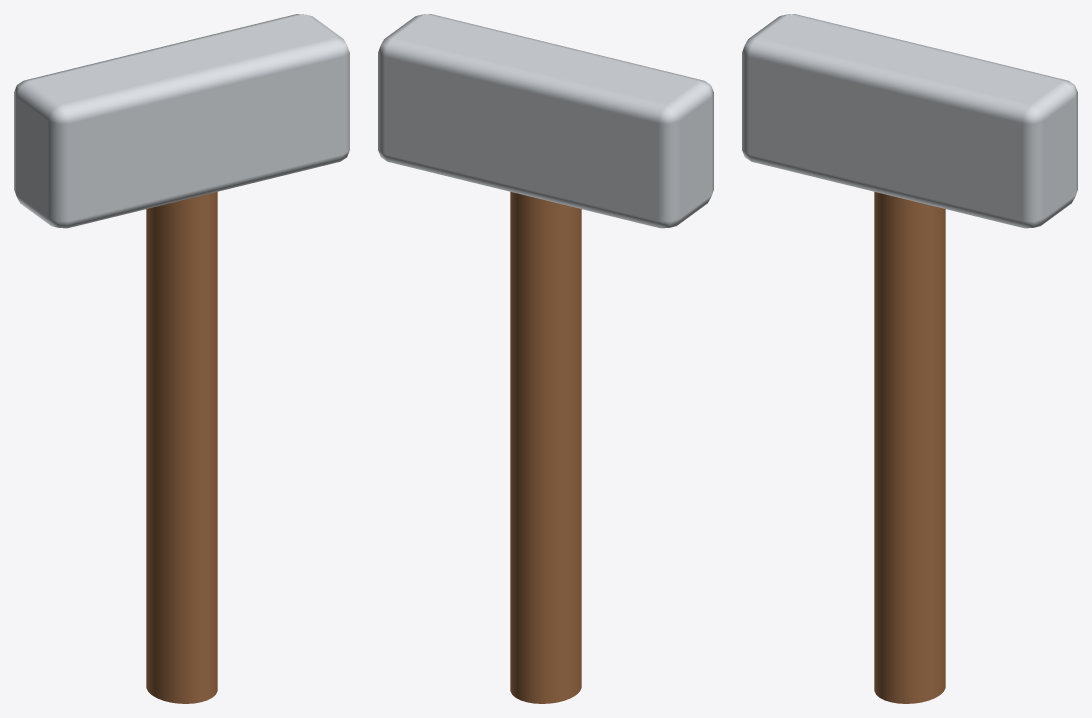
The model's file is wp-marteau.glb.
The picture shows the model from 3 angles, left to right: view 1: azimuth 30°, elevation 25°; view 2: azimuth 150°, elevation 25°; view 3: azimuth 330°, elevation 25°; orthographic projection.
Visible parts, largest first — view 1: wp-marteau; view 2: wp-marteau; view 3: wp-marteau.
Part boxes in pixels (<box>): wp-marteau: <box>14,14,349,703</box>; wp-marteau: <box>378,14,713,703</box>; wp-marteau: <box>742,14,1077,703</box>.
Bounding box in the file's own units: 0.16 × 0.32 × 0.045.
